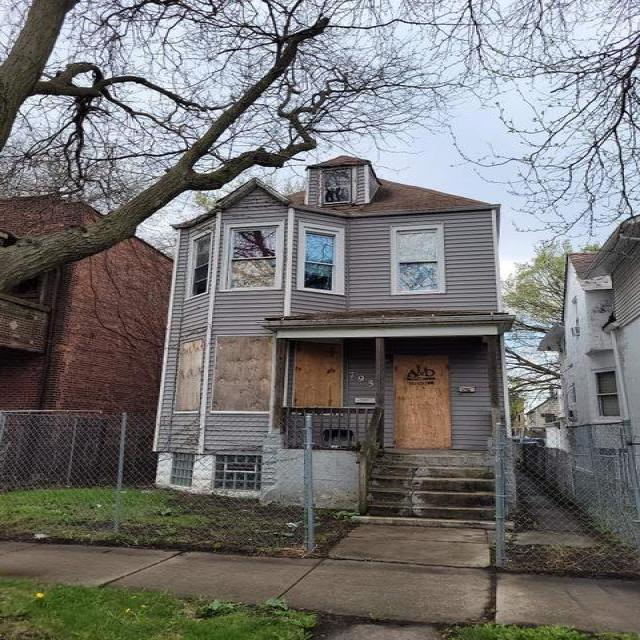House: (153, 155, 516, 529), (0, 196, 174, 486), (537, 211, 640, 558)
